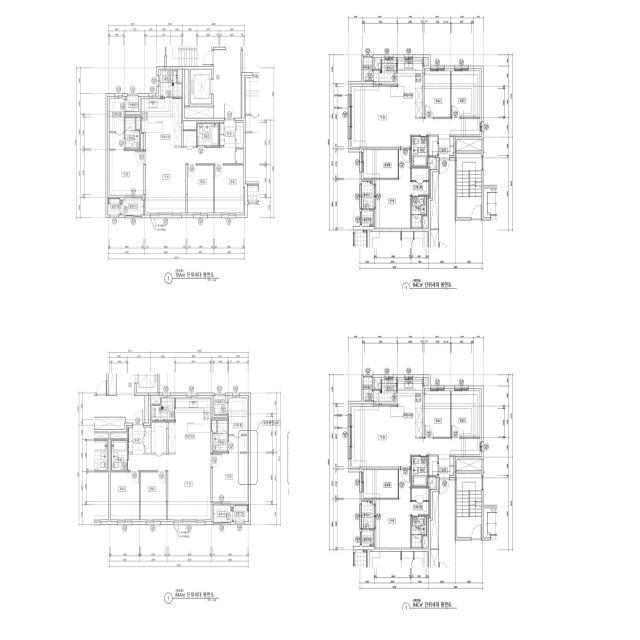space_balconi: (374, 60, 397, 85), (374, 380, 397, 405), (160, 71, 181, 97), (152, 398, 174, 421), (121, 198, 144, 215), (213, 505, 233, 522), (362, 181, 374, 209), (362, 501, 374, 529)
space_bedroom: (376, 150, 410, 228), (376, 470, 410, 548), (213, 453, 247, 502), (109, 151, 144, 195), (215, 165, 243, 213), (111, 472, 139, 520), (451, 71, 480, 117), (451, 391, 480, 437), (140, 472, 166, 520), (188, 165, 213, 213), (425, 71, 450, 117), (425, 391, 450, 437)
space_dressroom: (229, 398, 247, 452), (109, 99, 124, 149), (411, 168, 429, 195), (411, 488, 429, 515)
space_elevator: (191, 69, 212, 104)
space_elevator_hall: (214, 50, 241, 118)
space_front: (128, 425, 144, 453), (220, 119, 235, 147), (439, 135, 454, 158), (439, 455, 454, 478)
space_kitchen: (168, 398, 211, 453), (141, 98, 181, 146), (398, 60, 423, 117), (398, 380, 423, 437)
space_living_room: (352, 406, 480, 467), (352, 87, 480, 147), (146, 146, 235, 213), (128, 453, 211, 520)
space_multipurpose_space: (364, 150, 398, 178), (364, 470, 398, 498)
space_other: (430, 172, 439, 229), (430, 492, 439, 549), (152, 422, 166, 453), (184, 107, 213, 118), (457, 139, 482, 151), (457, 459, 482, 471), (214, 396, 227, 415), (125, 96, 138, 112), (363, 58, 372, 81), (363, 378, 372, 401), (183, 131, 196, 146), (184, 69, 189, 105), (236, 123, 243, 148), (429, 136, 437, 156), (429, 456, 437, 476), (145, 428, 151, 453), (145, 396, 149, 423), (236, 149, 243, 164), (111, 433, 127, 439), (428, 157, 436, 168), (428, 477, 436, 488), (212, 420, 217, 432), (375, 60, 381, 69), (375, 380, 381, 389), (423, 216, 427, 228), (136, 117, 140, 129), (152, 398, 160, 404), (423, 536, 427, 548), (141, 134, 144, 149), (178, 71, 182, 82), (424, 59, 427, 66), (424, 379, 427, 386)
space_outdoor_room: (234, 506, 249, 522), (108, 199, 120, 215), (362, 210, 373, 227), (362, 530, 373, 546)
space_staircase: (457, 154, 482, 217), (457, 474, 482, 537)
space_toilet: (197, 124, 219, 146), (125, 117, 140, 149), (213, 420, 228, 452), (411, 516, 426, 548), (411, 197, 426, 228), (412, 136, 427, 167), (112, 440, 127, 471), (412, 456, 427, 487)
